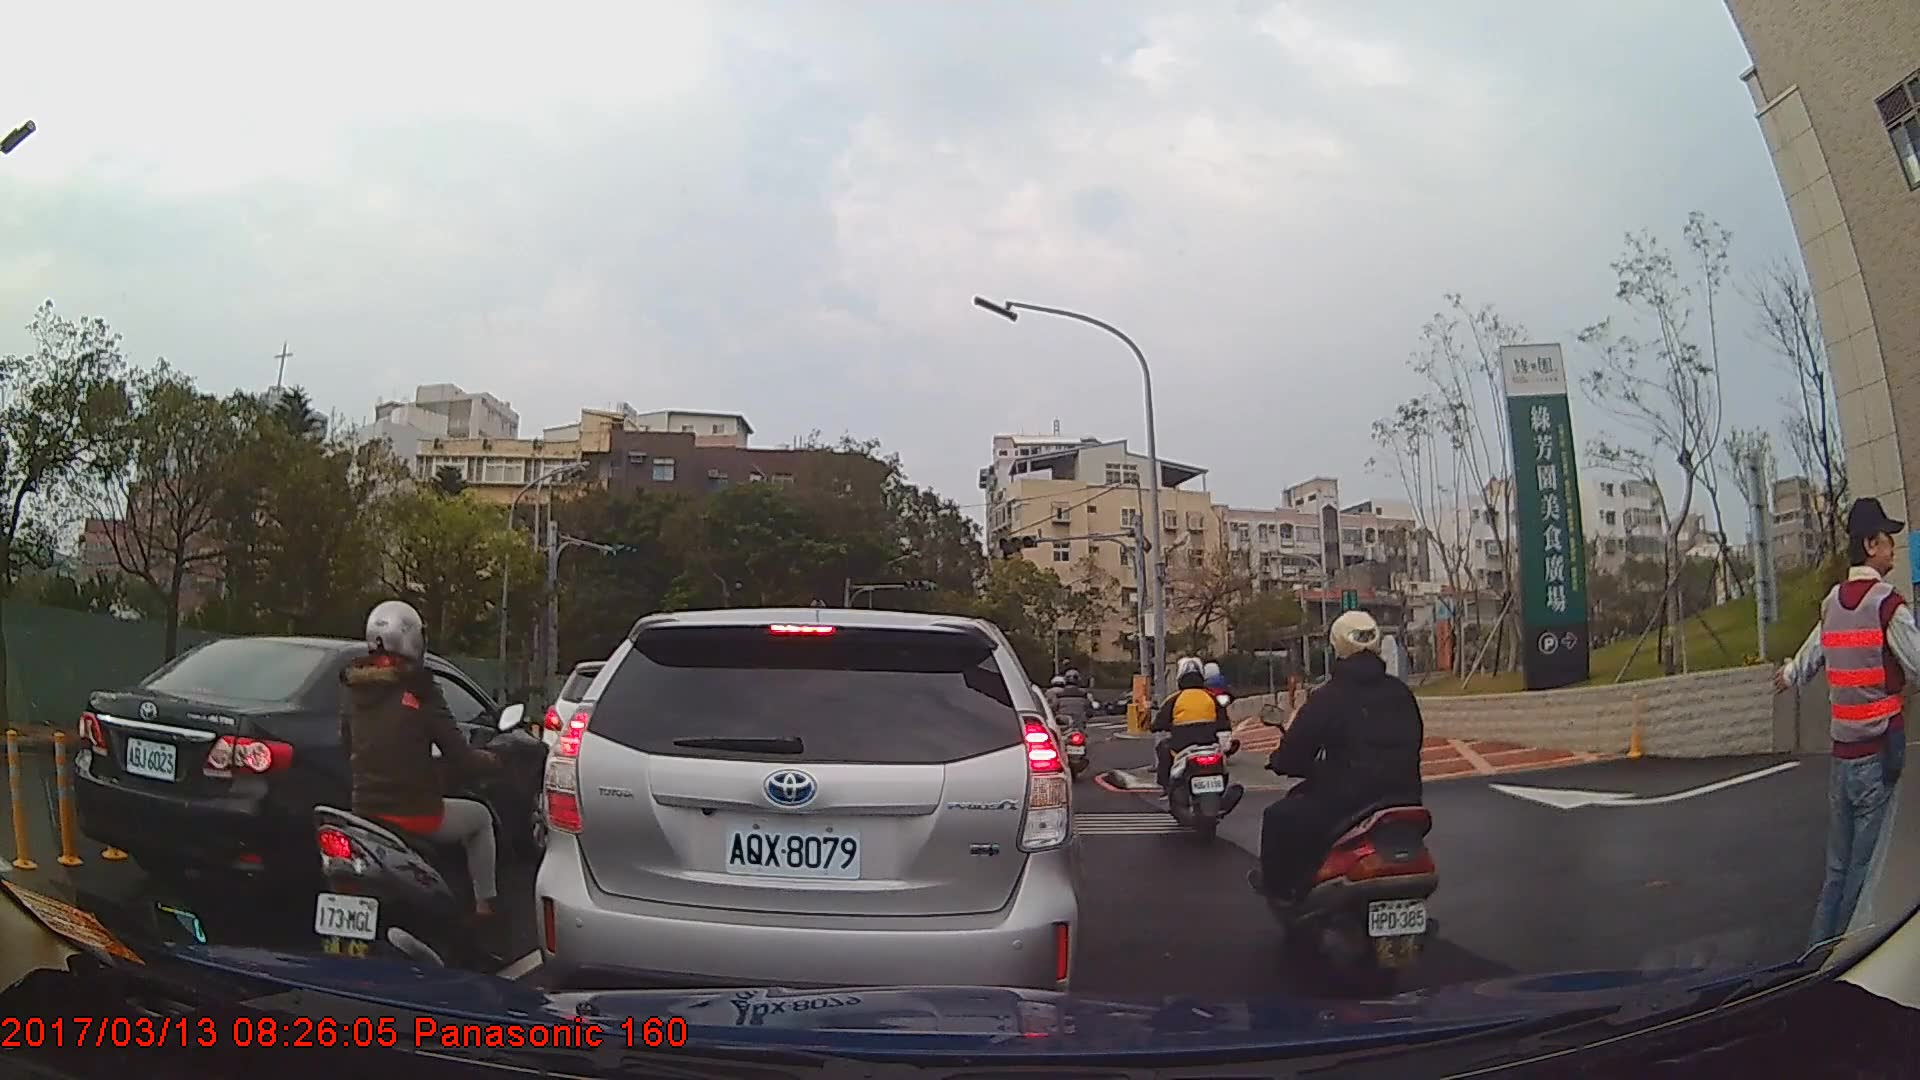pedestrian: (1769, 496, 1920, 979)
rider: (308, 602, 532, 999), (1247, 606, 1444, 994), (1144, 656, 1233, 848), (1196, 663, 1243, 777), (1051, 672, 1098, 780)
vehicle: (533, 604, 1082, 1017), (71, 634, 566, 913), (1099, 682, 1167, 715)
